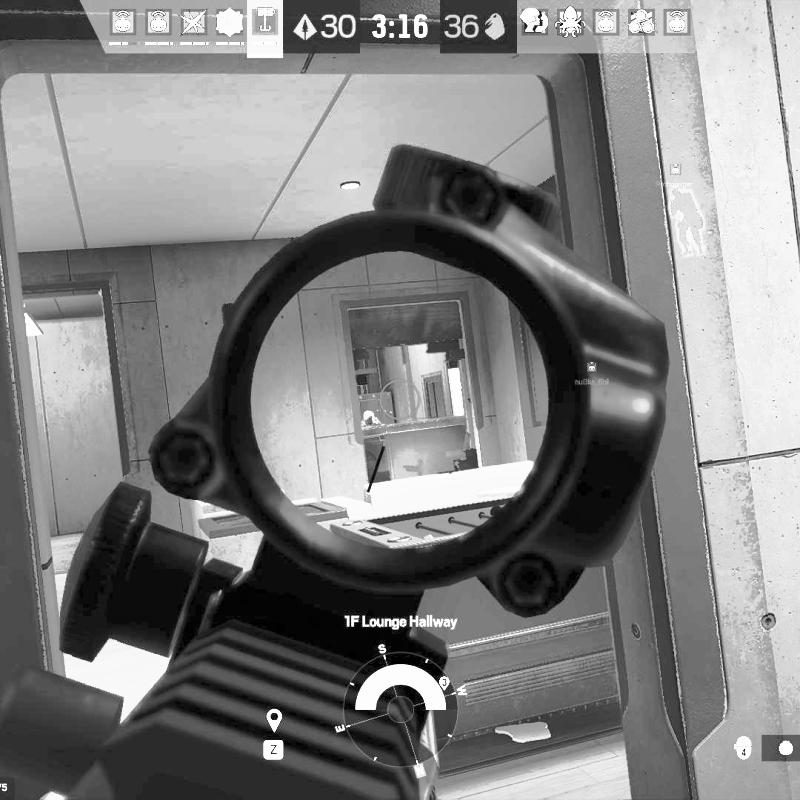Character: (360, 409, 386, 428)
Friend_label: (657, 162, 695, 189), (574, 361, 610, 385)
Head: (363, 411, 377, 427)
